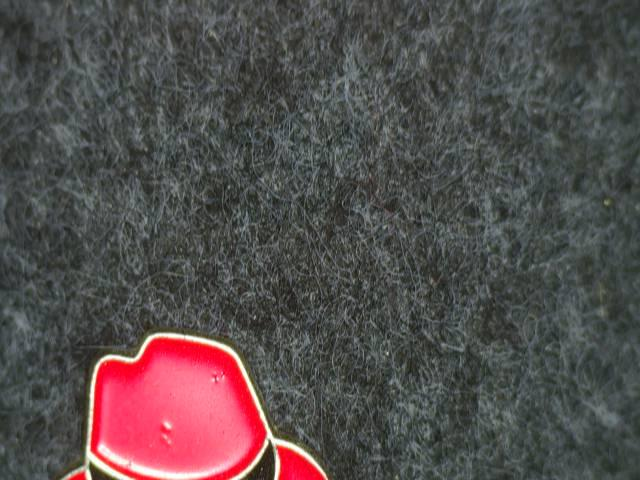Red-Hat: (33, 310, 356, 480)
